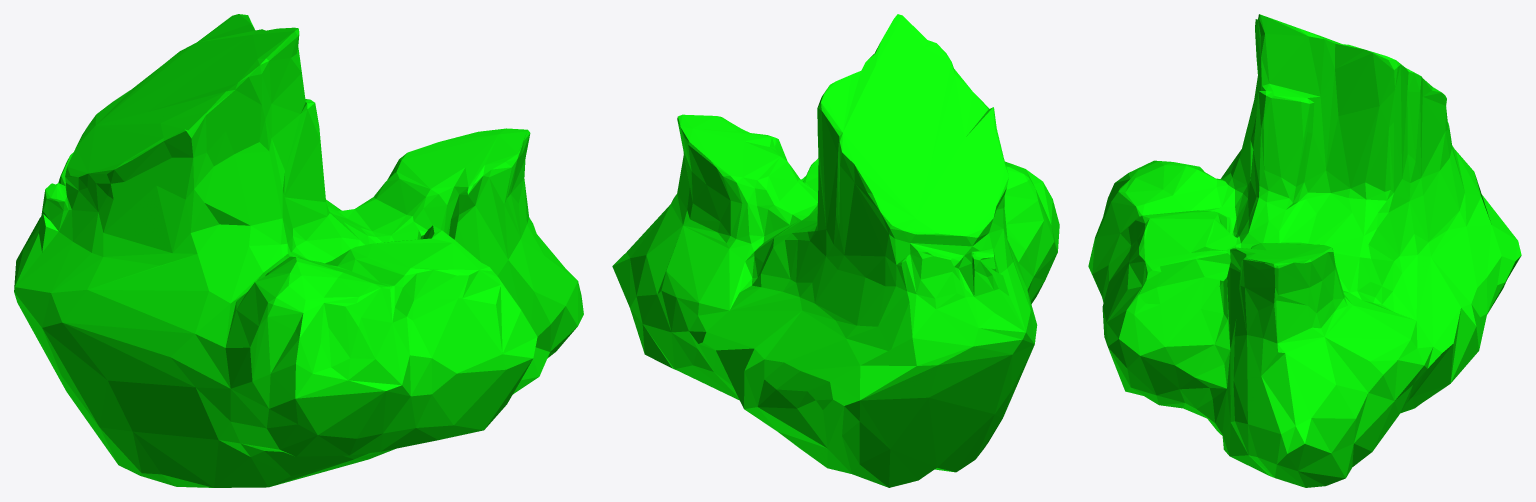
Rendered from SM_Iceberg_Medium_F_Rock.fbx.
The picture shows the model from 3 angles, left to right: view 1: azimuth 30°, elevation 25°; view 2: azimuth 150°, elevation 25°; view 3: azimuth 270°, elevation 25°; orthographic projection. The views are drawn at different scales.
Parts seen in each view (by area): view 1: SM_Iceberg_Medium_F_Rock; view 2: SM_Iceberg_Medium_F_Rock; view 3: SM_Iceberg_Medium_F_Rock.
Boxes of the visible parts, bbox=[...] form: SM_Iceberg_Medium_F_Rock: bbox=[14, 14, 583, 487]; SM_Iceberg_Medium_F_Rock: bbox=[612, 14, 1059, 487]; SM_Iceberg_Medium_F_Rock: bbox=[1088, 14, 1521, 487].
Bounding box in the file's own units: 22.15 × 18.71 × 18.34.
